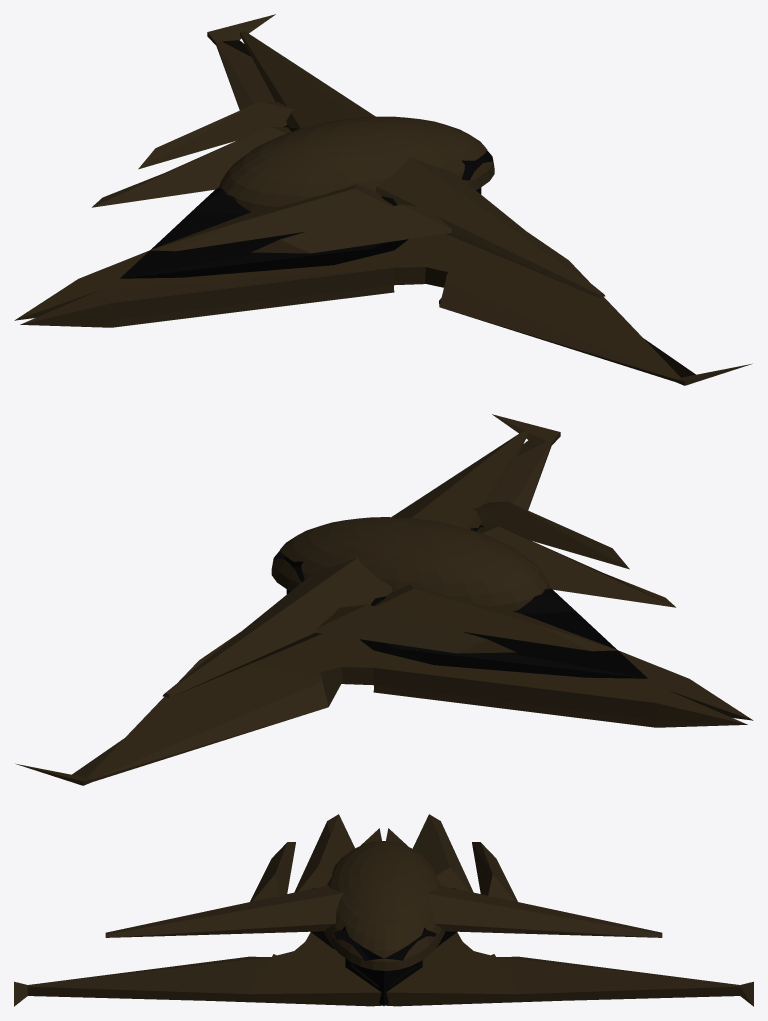
File: sanctuaryII.fbx
3 views of the same model, one above another, from view 1: azimuth 30°, elevation 25°; view 2: azimuth 150°, elevation 25°; view 3: azimuth 270°, elevation 25° (orthographic). The views are drawn at different scales.
Parts seen in each view (by area): view 1: Cube.002, Sphere, Cube.001, Cube.004, Cube.003, Cube.005; view 2: Cube.002, Sphere, Cube.001, Cube.004, Cube.003, Cube.005; view 3: Cube.002, Cube.001, Sphere, Cube.004, Cube.003, Cube.
Boxes of the visible parts, x1=… form: Cube.002: x1=14, y1=14, x2=752, y2=385; Sphere: x1=219, y1=116, x2=494, y2=212; Cube.001: x1=240, y1=31, x2=605, y2=297; Cube.004: x1=92, y1=126, x2=393, y2=251; Cube.003: x1=138, y1=101, x2=451, y2=253; Cube.005: x1=120, y1=125, x2=408, y2=278; Cube.002: x1=15, y1=414, x2=753, y2=785; Sphere: x1=271, y1=517, x2=549, y2=611; Cube.001: x1=162, y1=431, x2=527, y2=697; Cube.004: x1=374, y1=526, x2=675, y2=651; Cube.003: x1=316, y1=501, x2=629, y2=653; Cube.005: x1=359, y1=525, x2=647, y2=678; Cube.002: x1=14, y1=828, x2=753, y2=1006; Cube.001: x1=105, y1=885, x2=662, y2=937; Sphere: x1=324, y1=841, x2=444, y2=970; Cube.004: x1=294, y1=814, x2=473, y2=892; Cube.003: x1=250, y1=842, x2=517, y2=901; Cube: x1=345, y1=958, x2=422, y2=1005.
Bounding box in the file's own units: 1516 × 379 × 2515.
